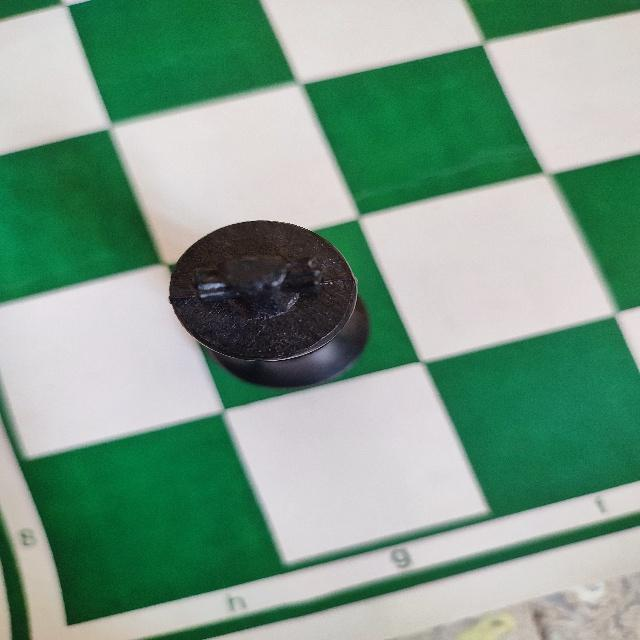King: (156, 215, 377, 392)
